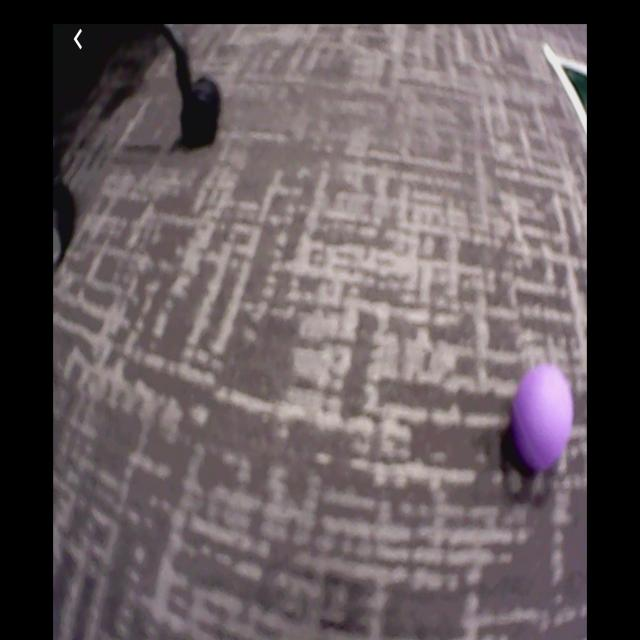ball: (511, 362, 576, 474)
